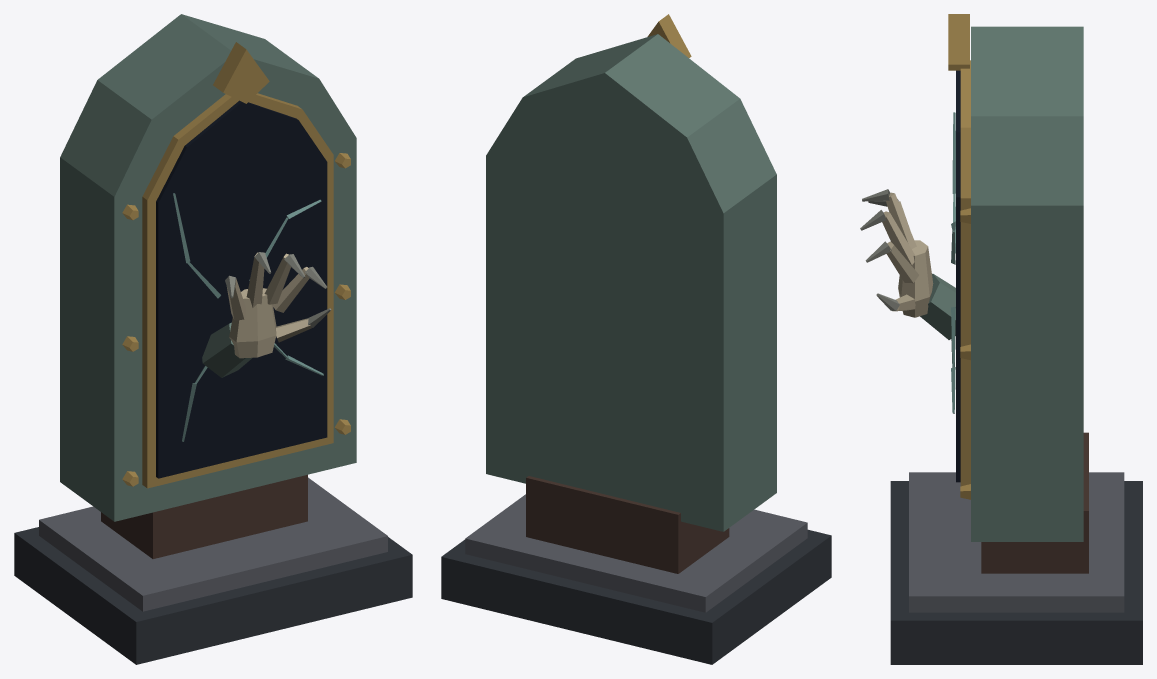
File: mirror-reaching.glb
3 renders of one model, left to right at view 1: azimuth 30°, elevation 25°; view 2: azimuth 150°, elevation 25°; view 3: azimuth 270°, elevation 25°, orthographic. The views are drawn at different scales.
Parts seen in each view (by area): view 1: The other side · reaching; view 2: The other side · reaching; view 3: The other side · reaching.
Part boxes in pixels (x1,y1,x2,y2): The other side · reaching: [14, 14, 412, 664]; The other side · reaching: [441, 14, 831, 664]; The other side · reaching: [860, 14, 1142, 664].
Bounding box in the file's own units: 0.89 × 1.73 × 0.7621.
